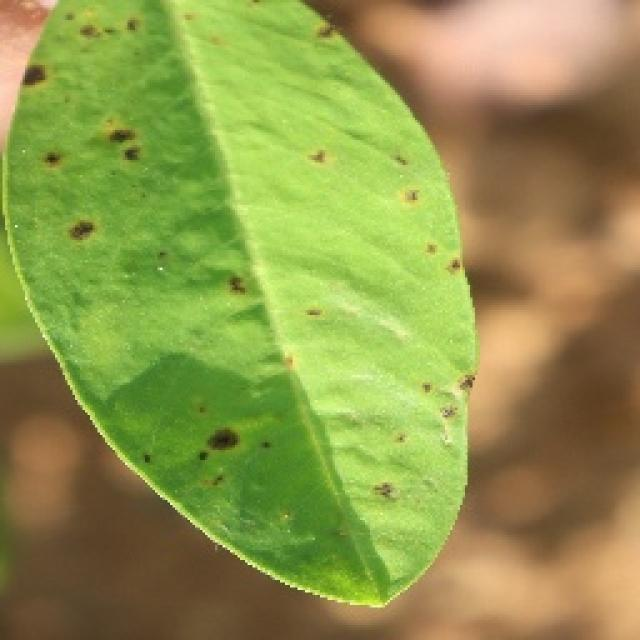Early_leaf_spot: (163, 413, 273, 498), (422, 355, 482, 438), (301, 0, 357, 77), (68, 0, 142, 56), (420, 232, 482, 298), (89, 113, 148, 181), (10, 44, 70, 104), (58, 186, 109, 254), (354, 461, 414, 516), (382, 149, 421, 215), (31, 136, 71, 188), (228, 268, 260, 322), (300, 146, 337, 188)
